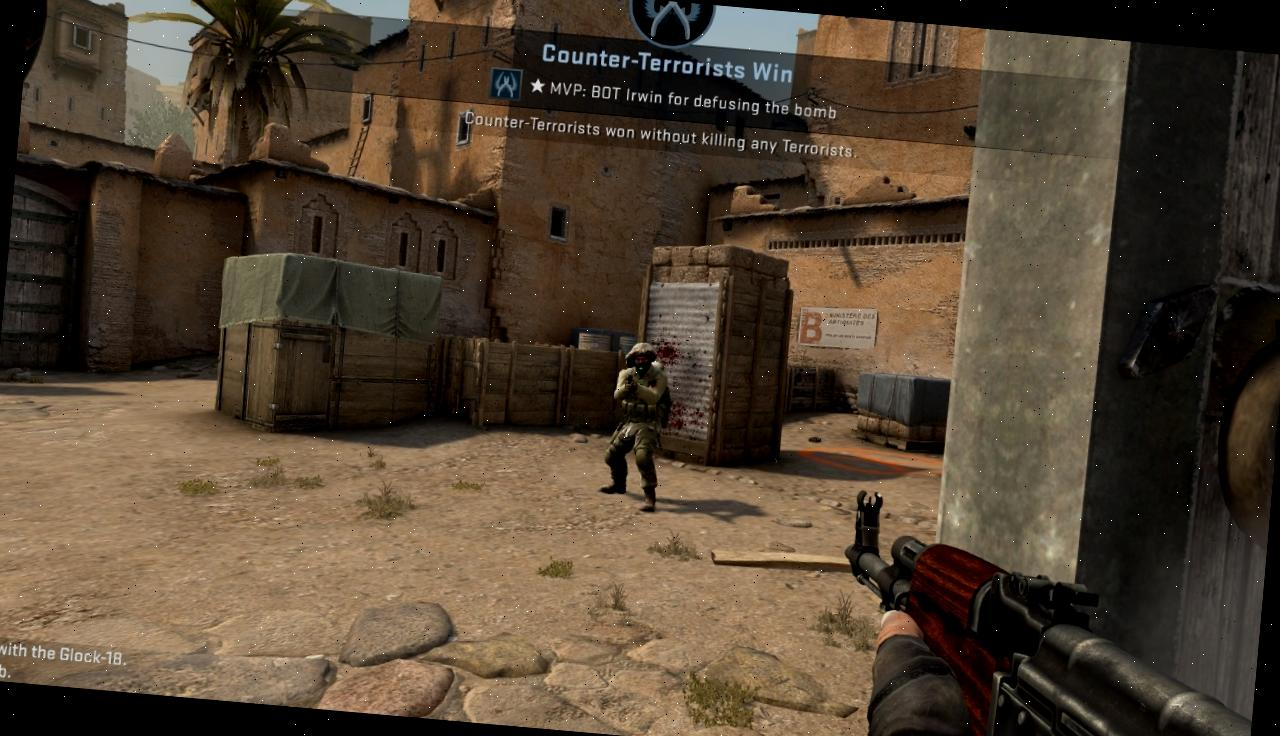ct: (605, 340, 669, 511)
cthead: (627, 342, 655, 372)
rifle: (823, 491, 1268, 736)
